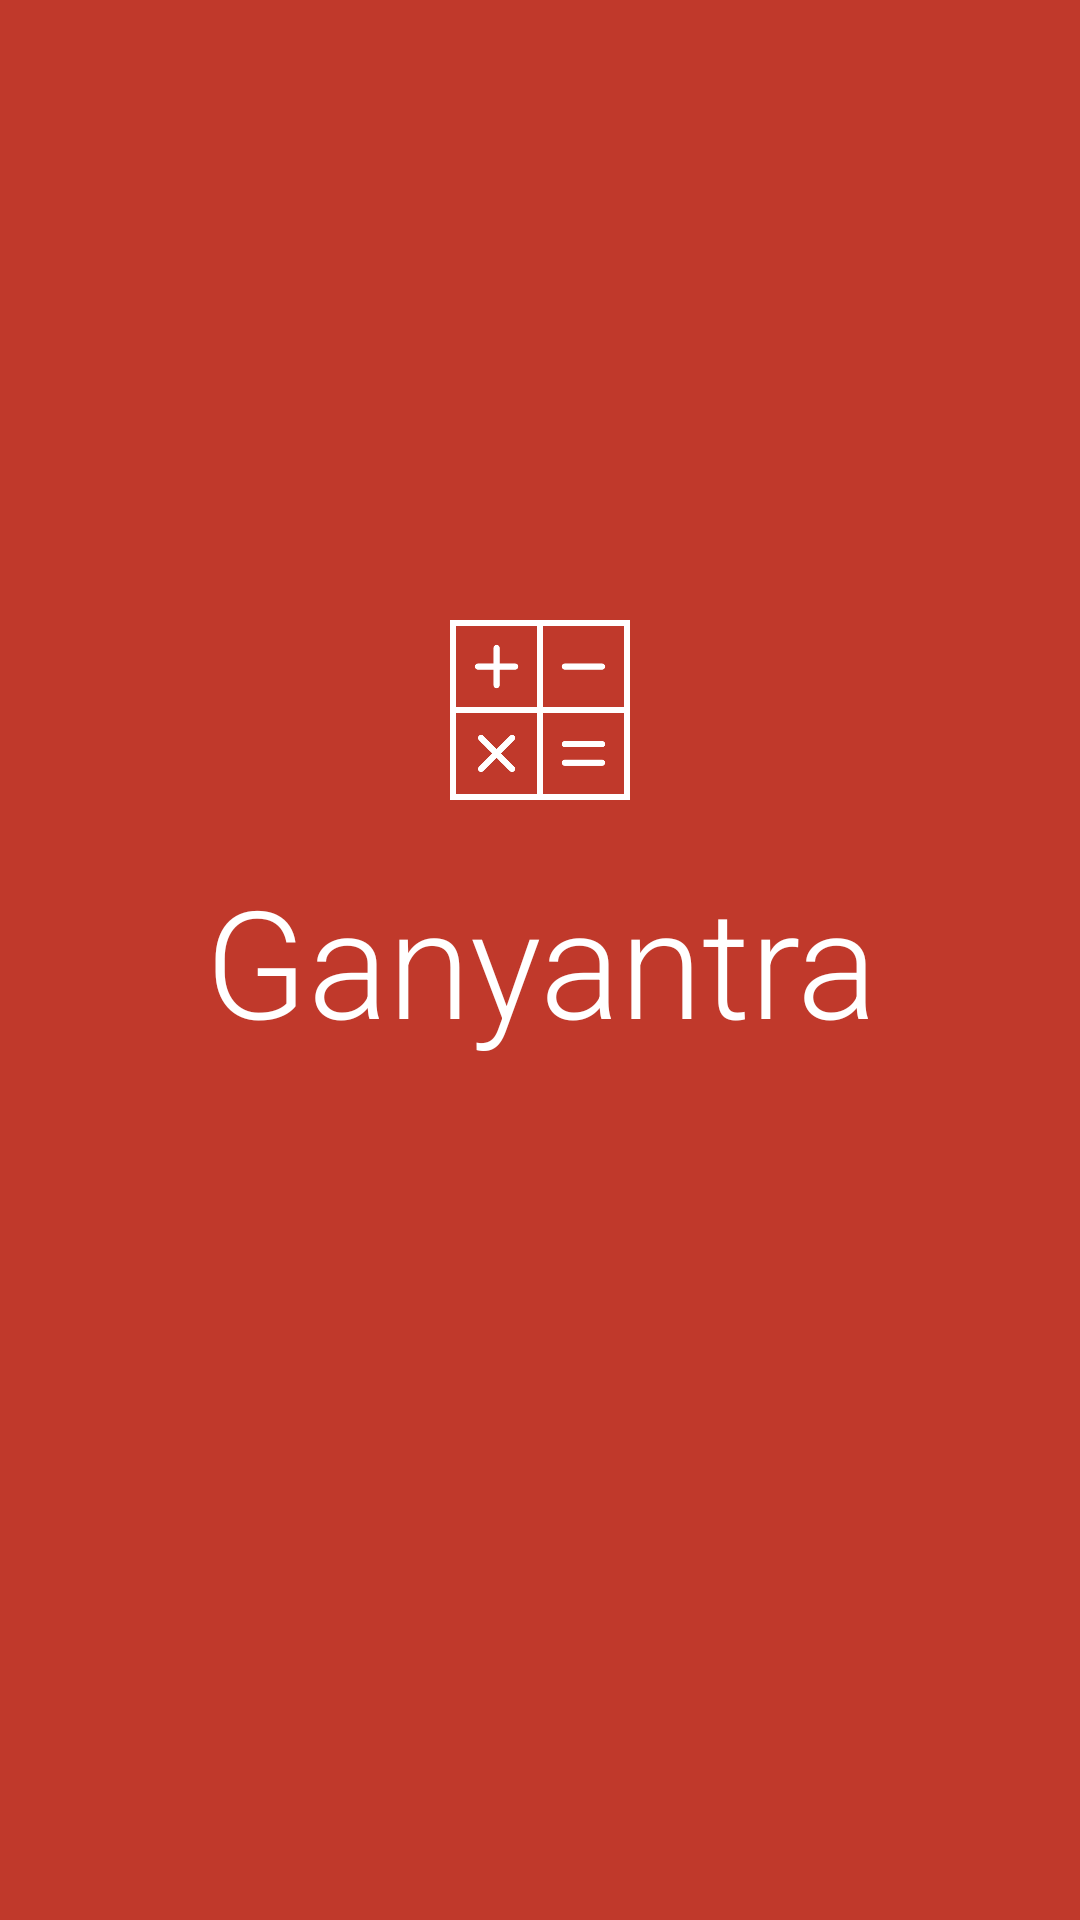

Point at icon controls on the screen. Image size 1080px×1920px, points as (x,y).
calculator: (540,710)
